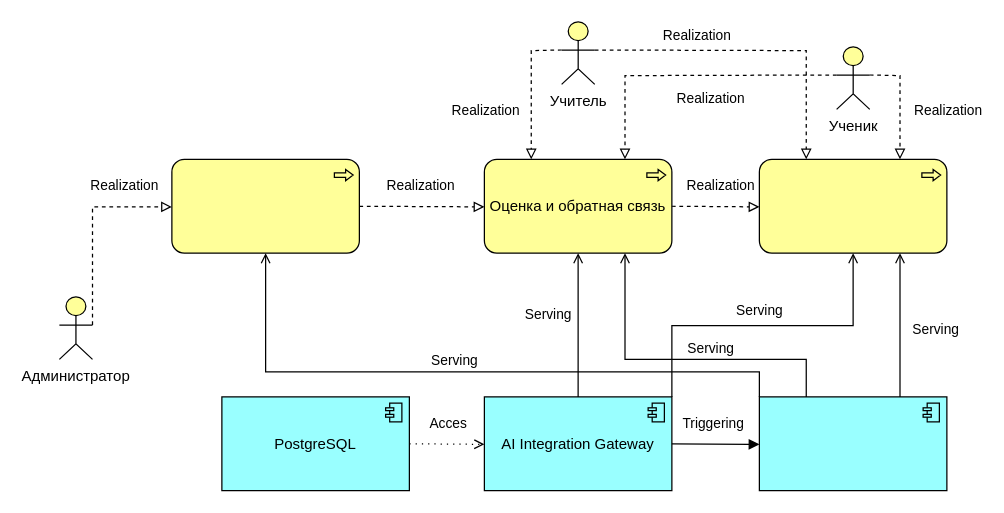
The diagram is 1004 pixels wide and 513 high, and some of its shapes have lost their labels. The centre of each missing label's shape, as x and y in pixels:
"Moodle LMS" belongs at point 852,443.
"Административное управление" belongs at point 265,205.
"Учебный процесс" belongs at point 852,205.
